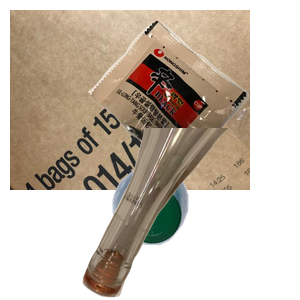cardboard: (10, 10, 250, 190)
glass: (80, 128, 300, 300)
plastic: (110, 164, 300, 300)
trash: (86, 18, 300, 194)
